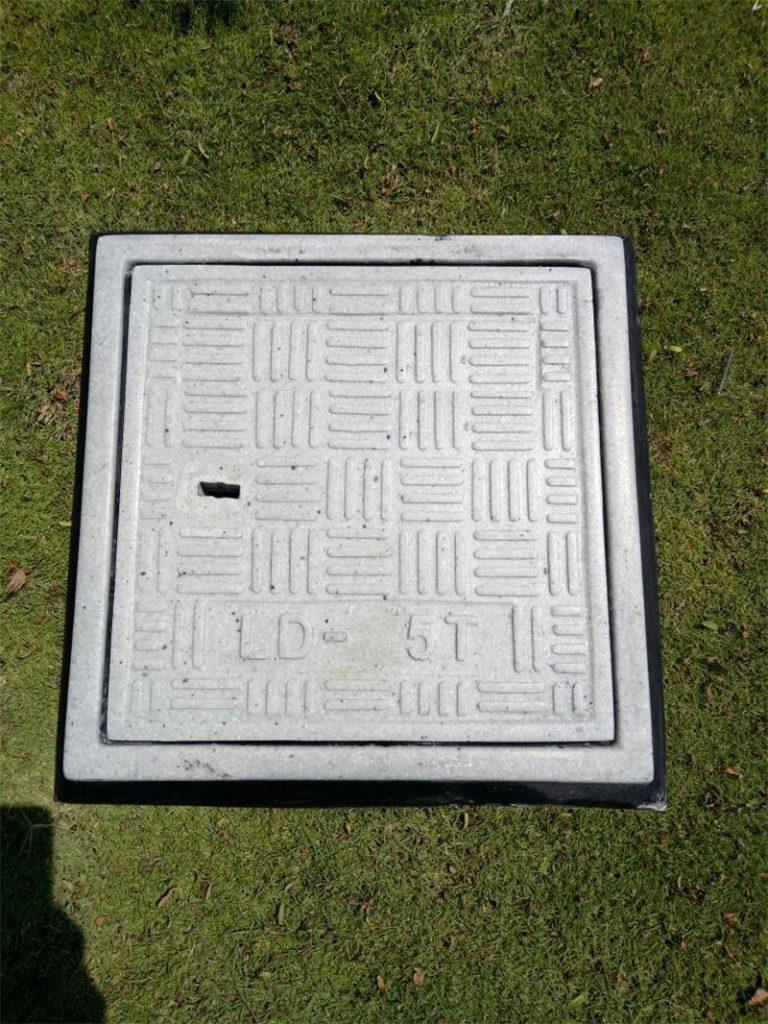wellcover: (19, 185, 702, 830)
